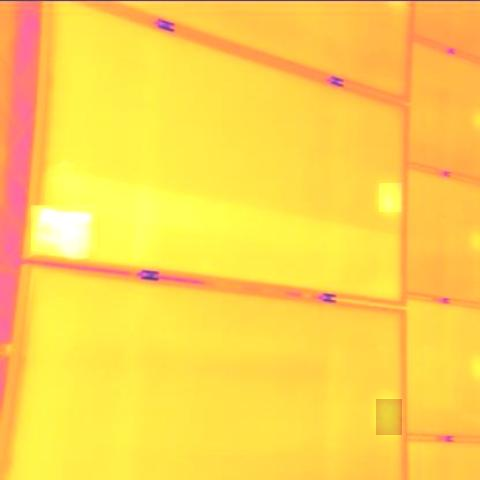fault: (31, 206, 97, 252), (376, 399, 402, 435), (379, 183, 402, 212)
